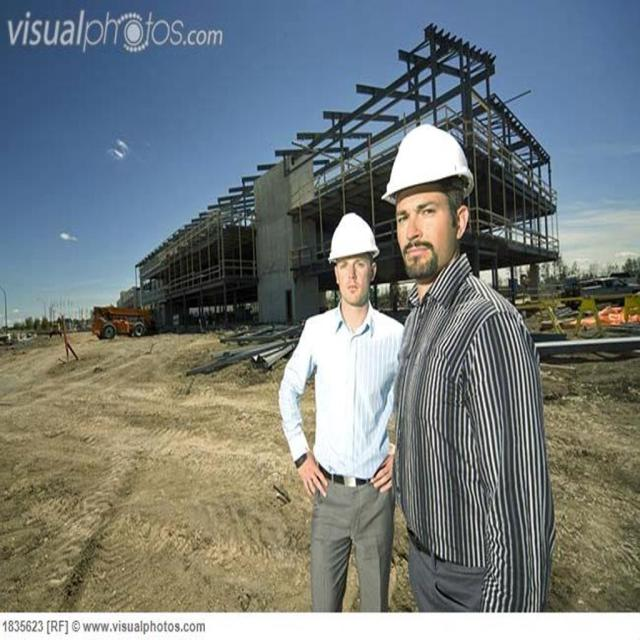Face: (392, 176, 468, 284), (333, 247, 373, 305)
